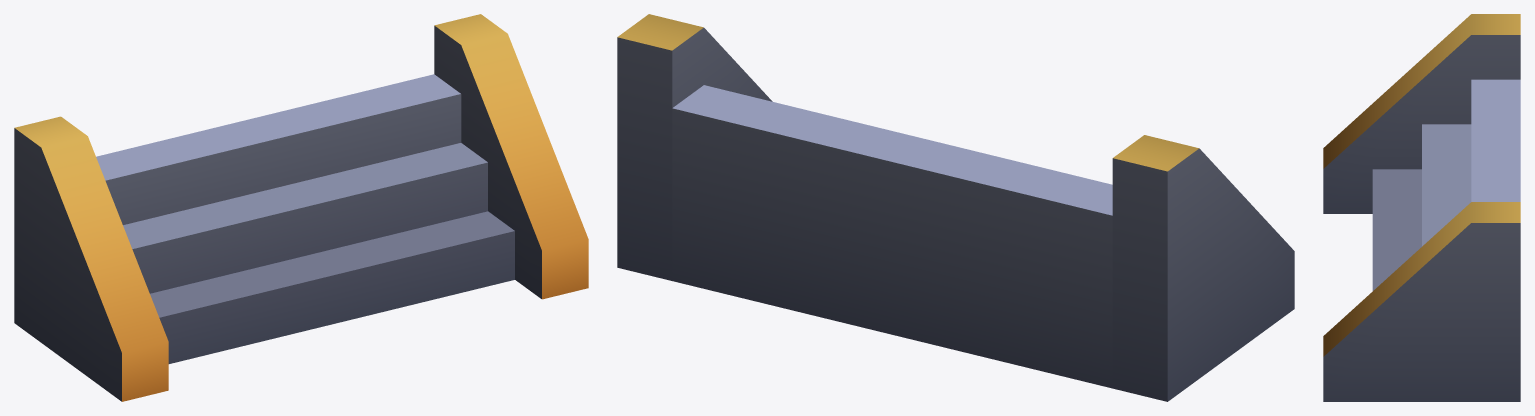
File: stairs-small-edges.glb
3 renders of one model, left to right at view 1: azimuth 30°, elevation 25°; view 2: azimuth 150°, elevation 25°; view 3: azimuth 270°, elevation 25°, orthographic. The views are drawn at different scales.
Parts seen in each view (by area): view 1: stairs-small-edges; view 2: stairs-small-edges; view 3: stairs-small-edges.
Part boxes in pixels (box(x1,y1,x2,y2)): stairs-small-edges: box(14, 14, 588, 401); stairs-small-edges: box(617, 14, 1294, 401); stairs-small-edges: box(1323, 14, 1520, 401).
Bounding box in the file's own units: 1 × 0.3999 × 0.3999.
